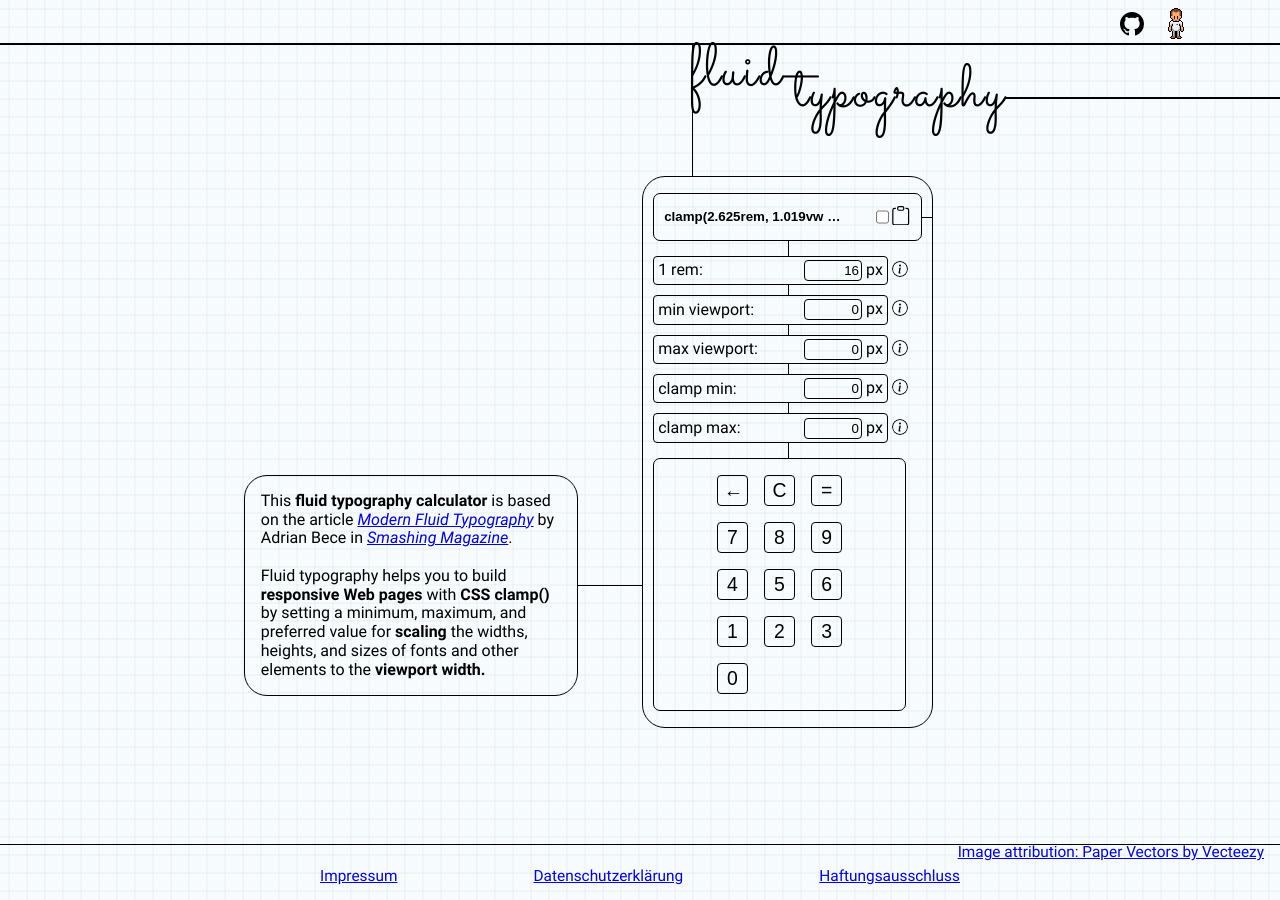
Test: tests ResultDisplay component › tests that '=' and 'C' keypad buttons work even when no input field has focus
This screenshot has width=1280, height=900.
Type "375" into the field labelled "min viewport:" at (833, 310), box [804, 299, 862, 320]
Type "1440" into the field labelled "max viewport:" at (833, 349), box [804, 339, 862, 360]
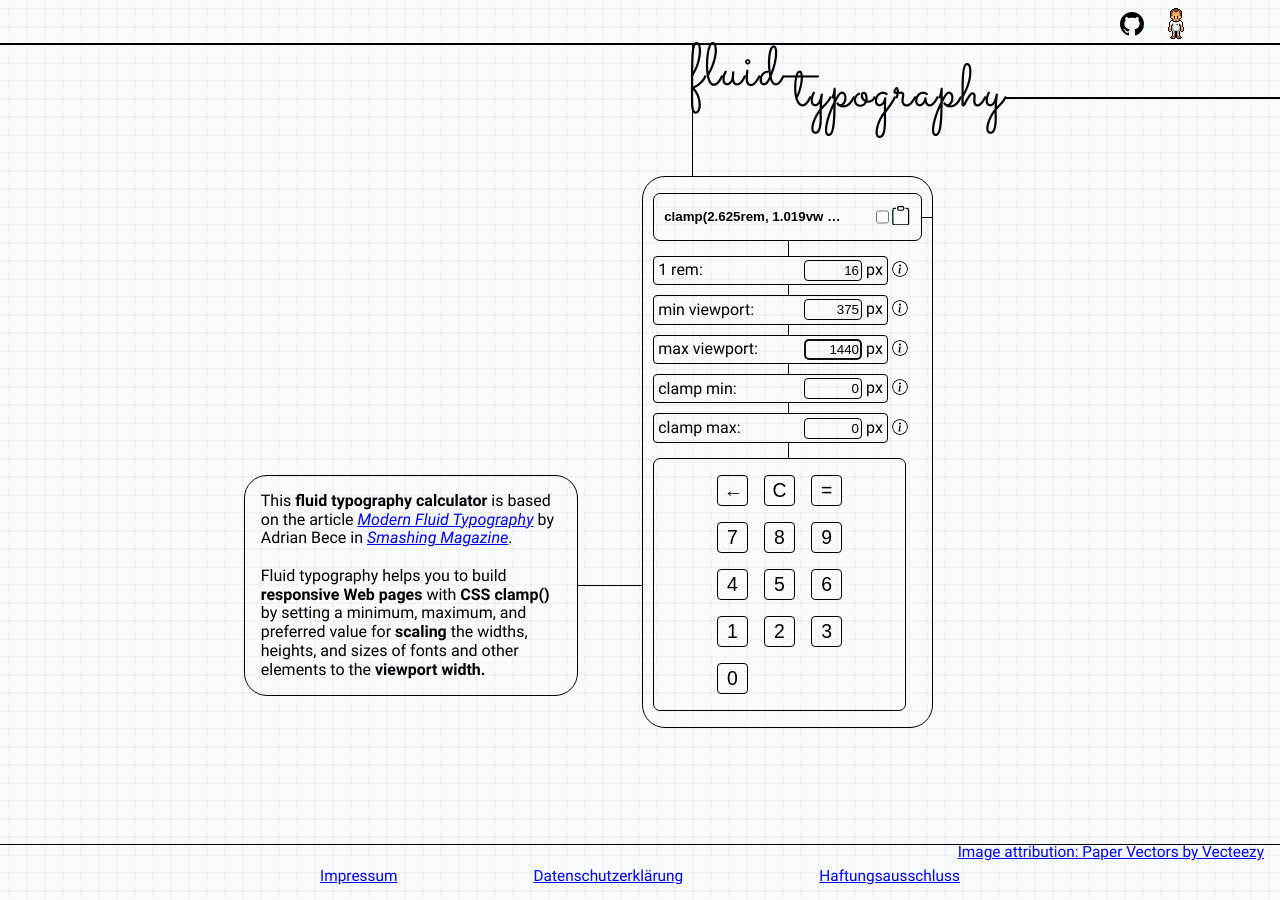
Type "16" into the field labelled "clamp min:" at (833, 389), box [804, 378, 862, 399]
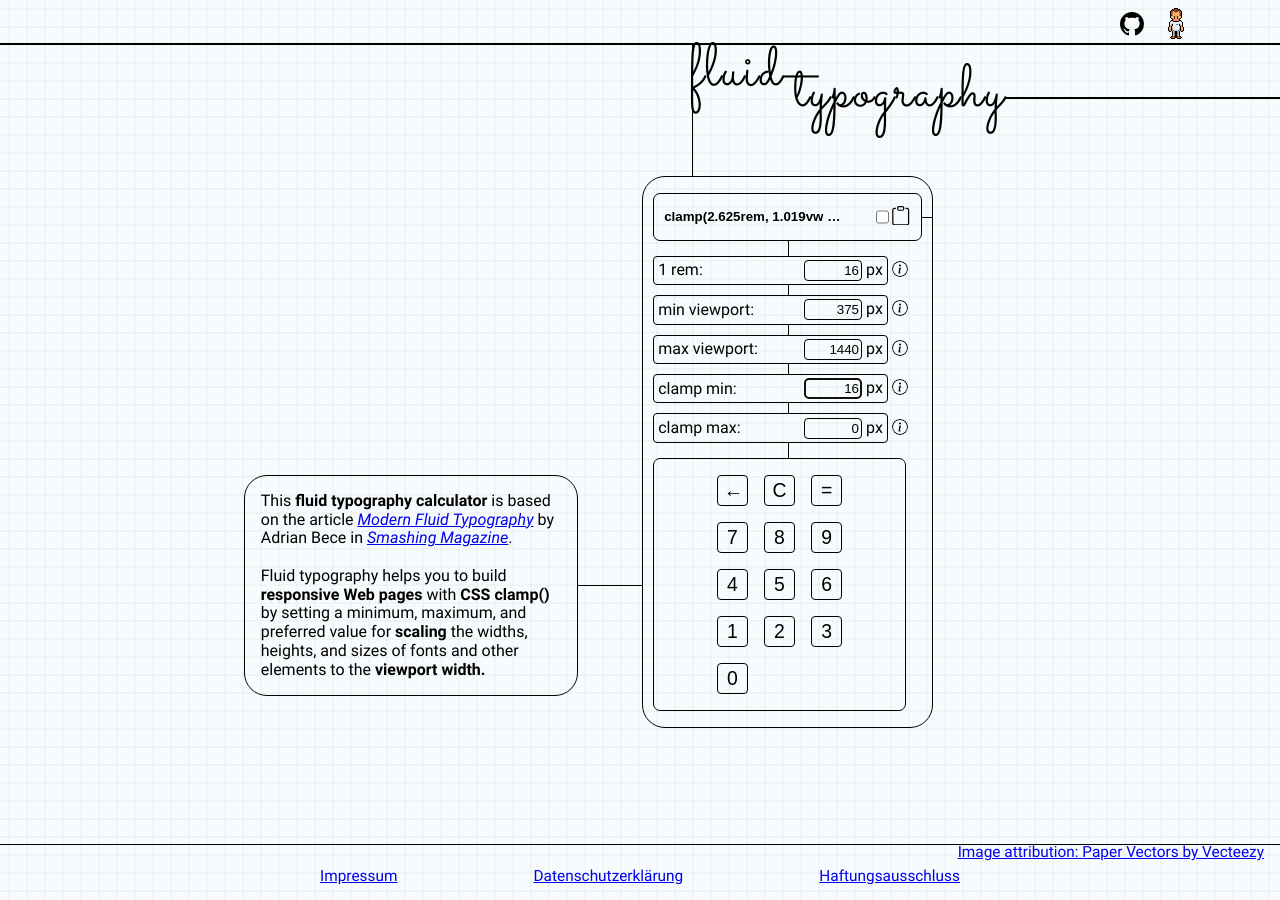
Type "24" into the field labelled "clamp max:" at (833, 428), box [804, 418, 862, 439]
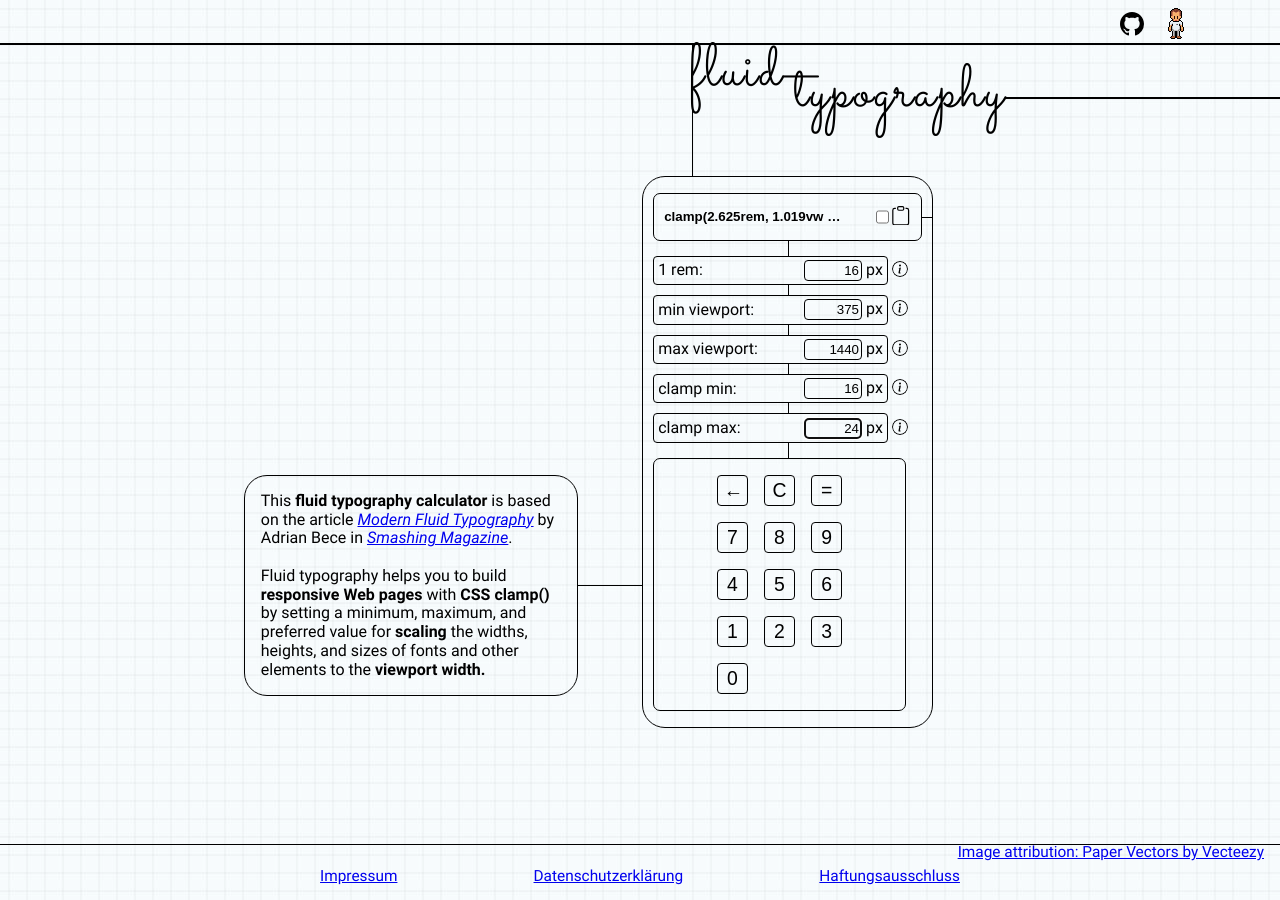
// removes focus from inputs
Click the tooltip in the row of "max viewport:" at (900, 348), box [892, 340, 908, 356]
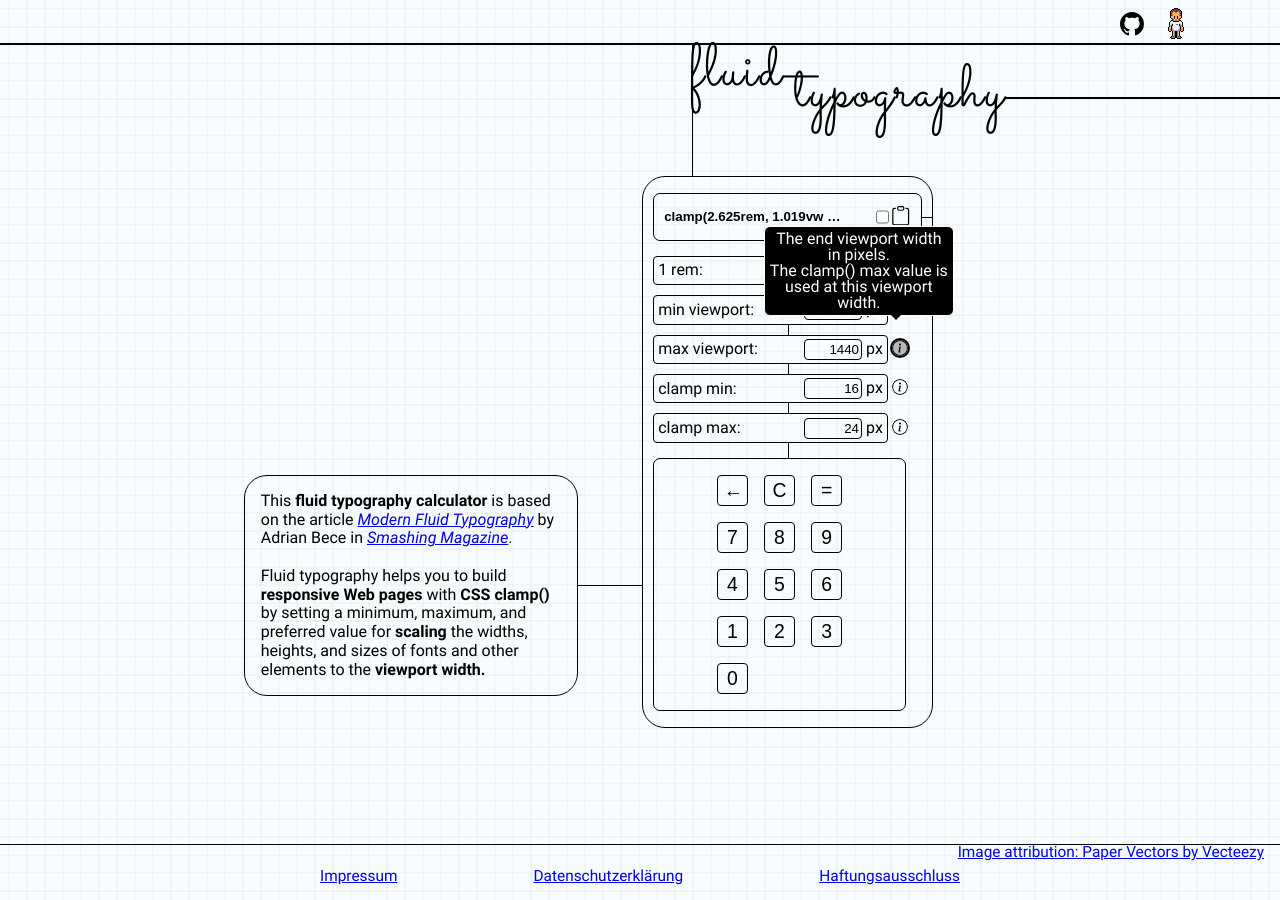
// clicks equals button
Click the button with test id "keypadButton" showing "=" at (827, 490), box [811, 475, 842, 506]
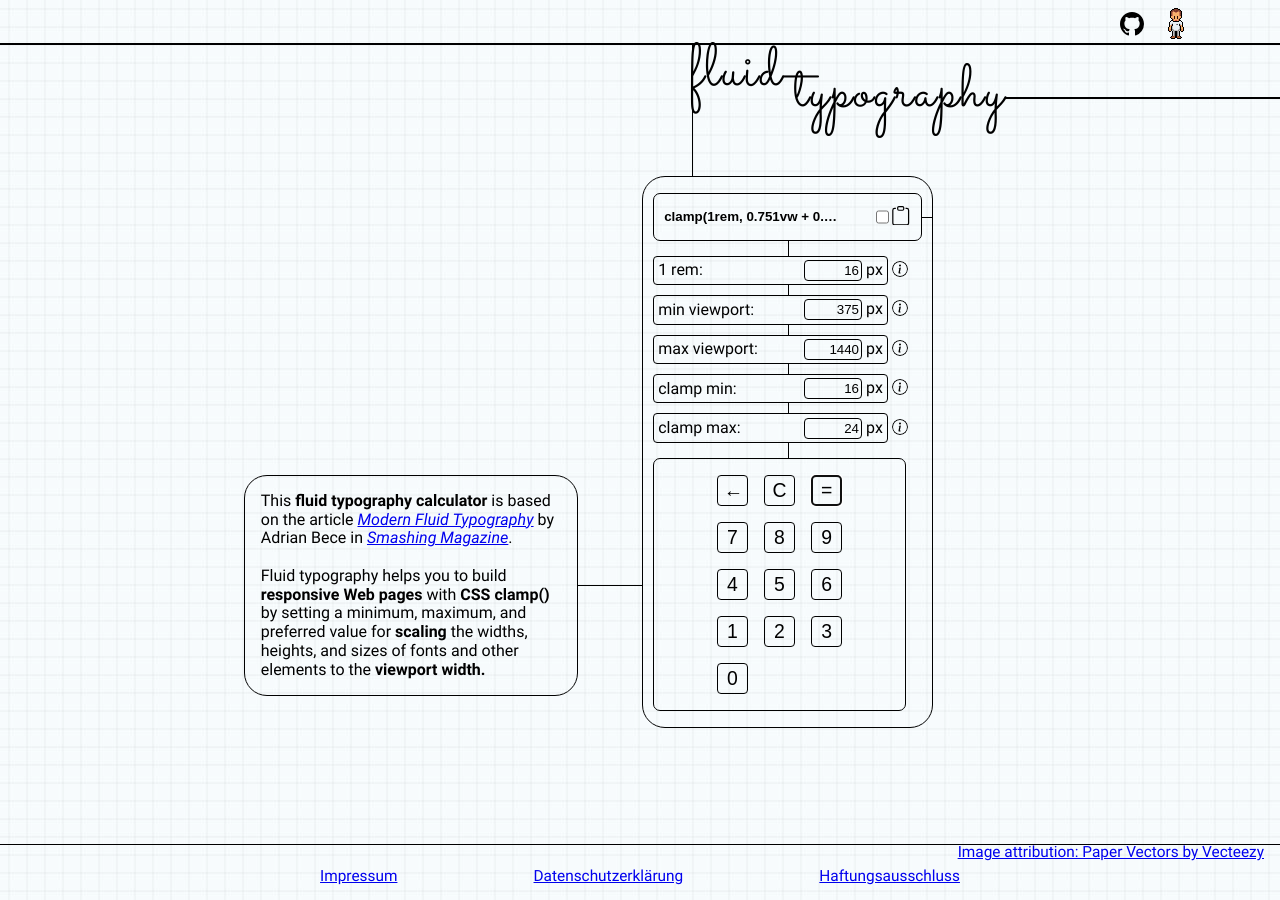
// clicks clear button
Click the button with test id "keypadButton" showing "C" at (779, 490), box [764, 475, 795, 506]
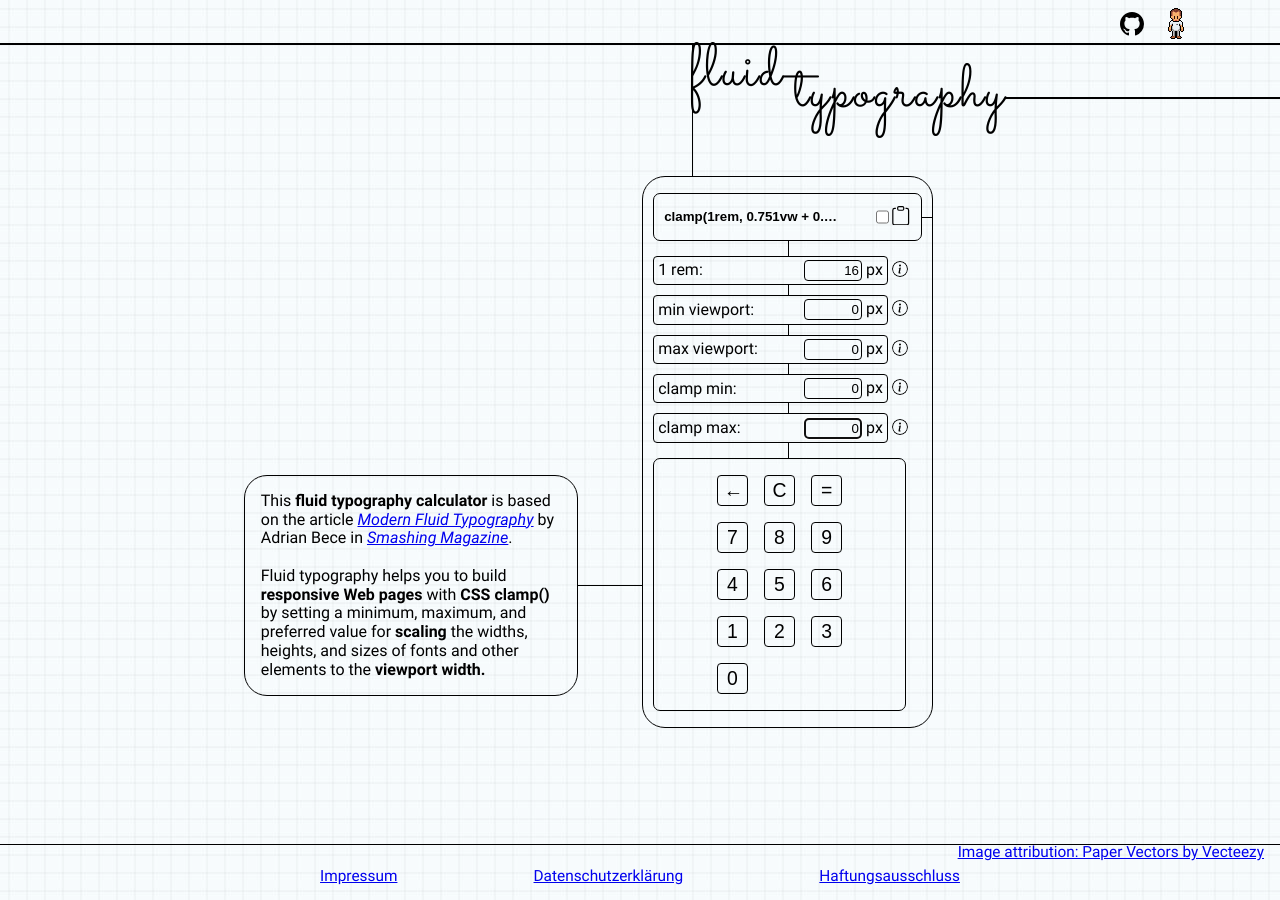
Expected: the field named "result: clamp(1rem, 0.751vw + 0.824rem, 1.5rem)" holds "clamp(1rem, 0.751vw + 0.824rem, 1.5rem)", [662, 208, 845, 225]
Expected: the field labelled "min viewport:" holds "0", [804, 299, 862, 320]
Expected: the field labelled "max viewport:" holds "0", [804, 339, 862, 360]
